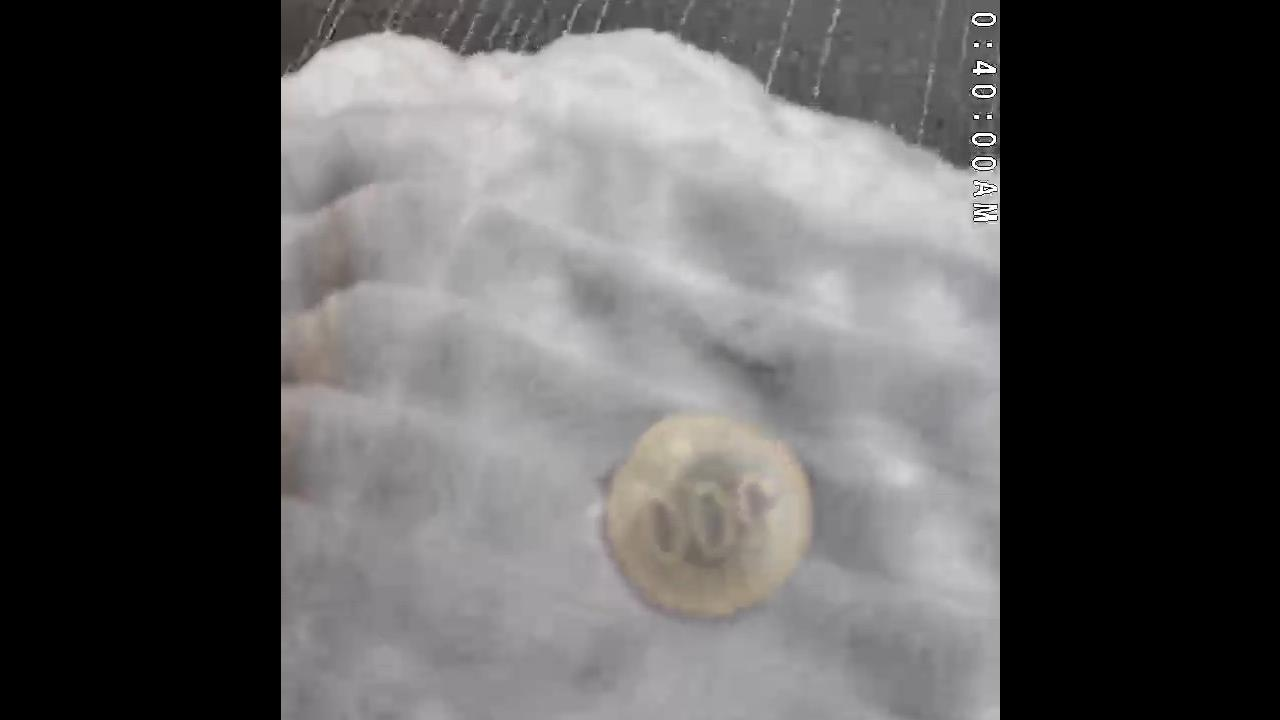coin: (594, 407, 818, 628)
